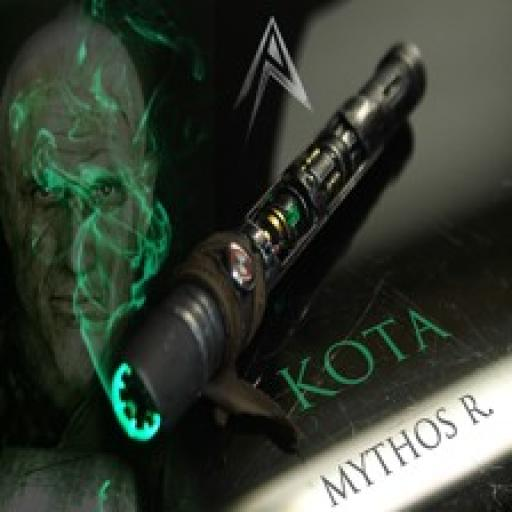lightsaber: (101, 40, 430, 449)
